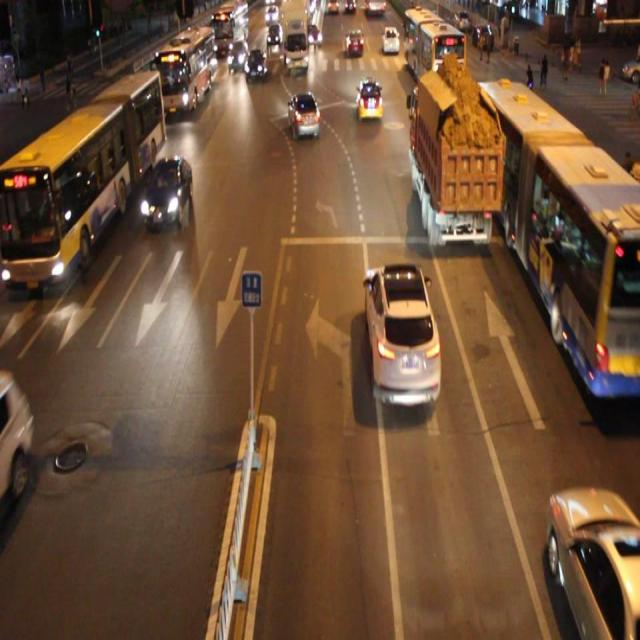bus: (410, 74, 492, 245)
car: (544, 484, 640, 640), (364, 261, 440, 406), (140, 153, 192, 229), (37, 125, 85, 188), (286, 90, 320, 140), (355, 77, 383, 121)
van: (476, 79, 640, 397), (1, 71, 160, 285)
